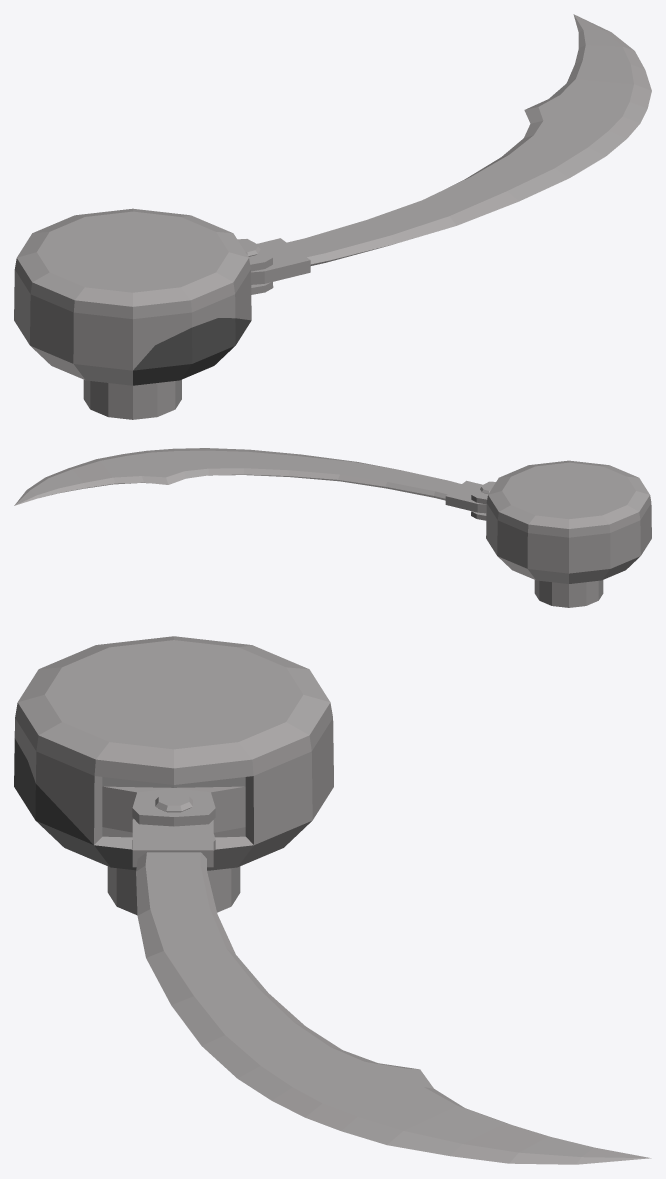
The model's file is GNDEBladeSpinning_2.fbx.
3 renders of one model, top to bottom at view 1: azimuth 30°, elevation 25°; view 2: azimuth 150°, elevation 25°; view 3: azimuth 270°, elevation 25°, orthographic. The views are drawn at different scales.
Visible parts, largest first — view 1: GNDEBladeSpinning_2; view 2: GNDEBladeSpinning_2; view 3: GNDEBladeSpinning_2.
Boxes of the visible parts, <box> form: GNDEBladeSpinning_2: <box>14,14,651,419</box>; GNDEBladeSpinning_2: <box>14,448,651,607</box>; GNDEBladeSpinning_2: <box>14,636,651,1164</box>.
Bounding box in the file's own units: 164 × 31.53 × 92.1.
